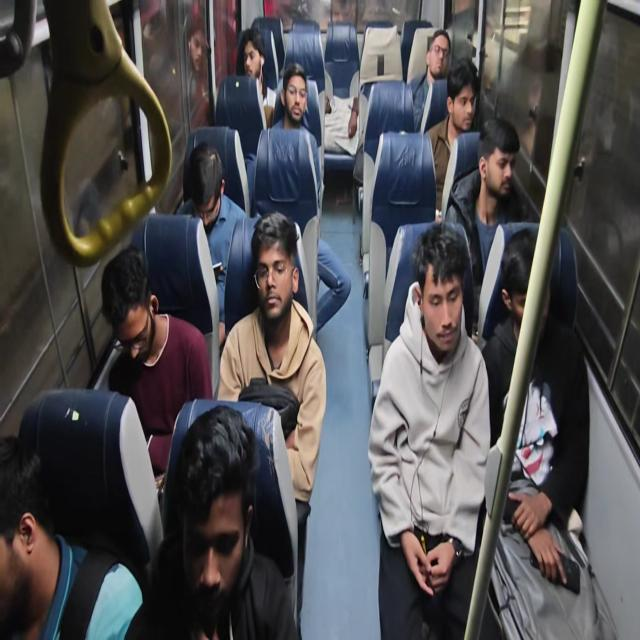person: (145, 401, 269, 640), (59, 256, 186, 431), (0, 429, 93, 640), (382, 241, 462, 387), (185, 126, 261, 270), (454, 113, 522, 210), (256, 224, 304, 358), (324, 70, 382, 176), (499, 261, 539, 343), (440, 64, 479, 145), (424, 34, 462, 102), (240, 33, 283, 84), (286, 64, 311, 118)
